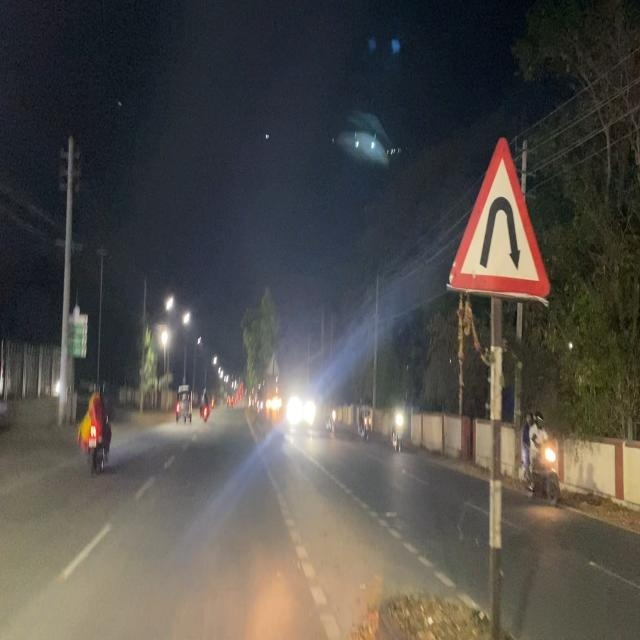bien_nguy_hiem: (446, 134, 552, 309)
